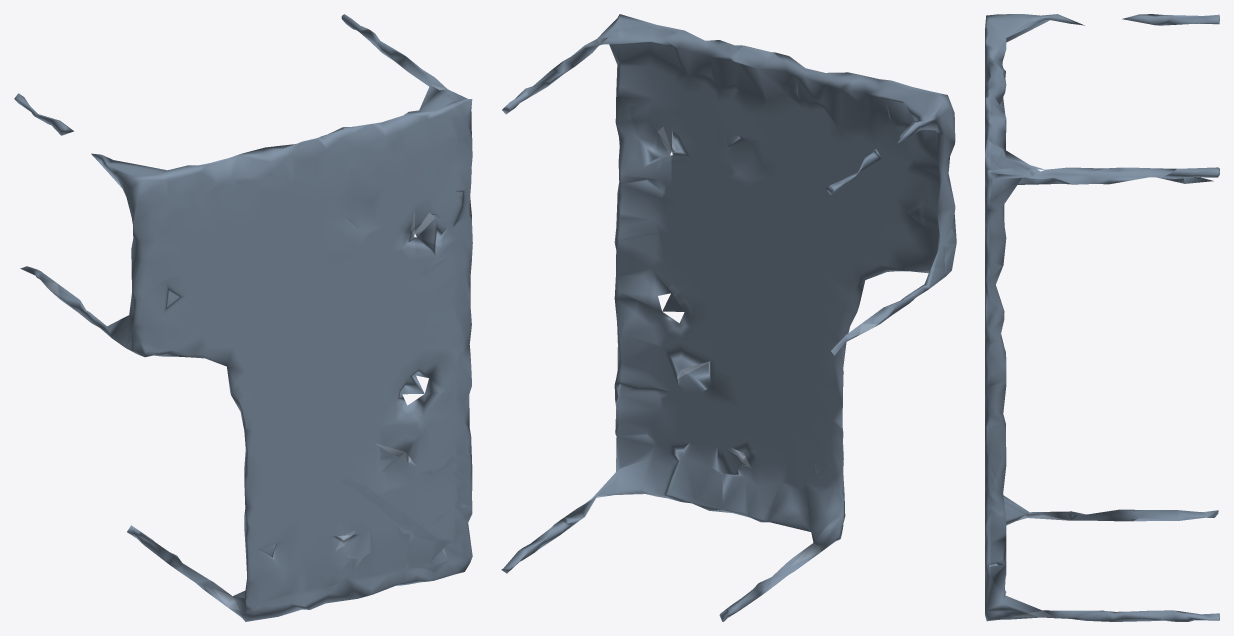
Rendered from table_0218_original.obj.
3 views of the same model, side by side, from view 1: azimuth 30°, elevation 25°; view 2: azimuth 150°, elevation 25°; view 3: azimuth 270°, elevation 25° (orthographic). The views are drawn at different scales.
Bounding box in the file's own units: 0.9981 × 1.33 × 0.6207.
